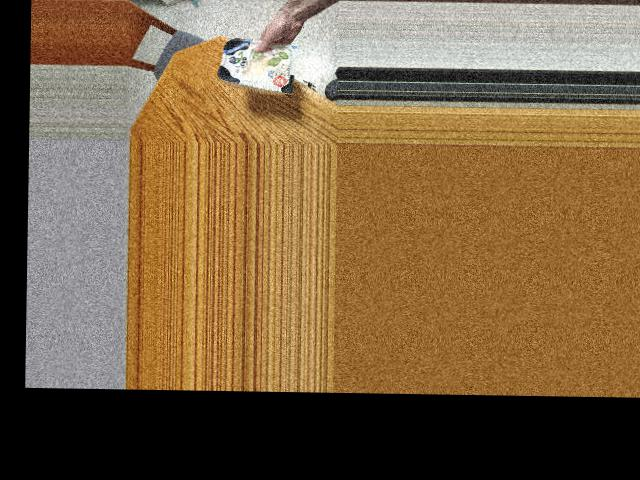cheese: (218, 24, 301, 98)
